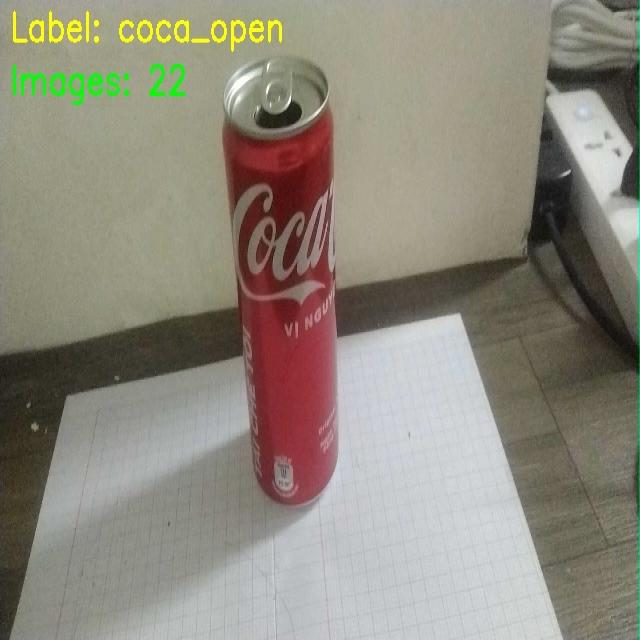Coca_open: (212, 54, 349, 505)
